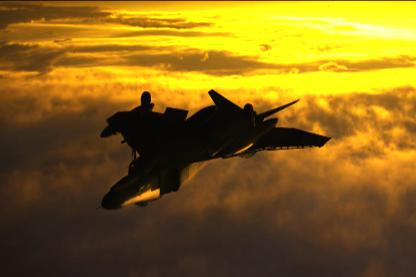F35: (96, 90, 332, 210)
